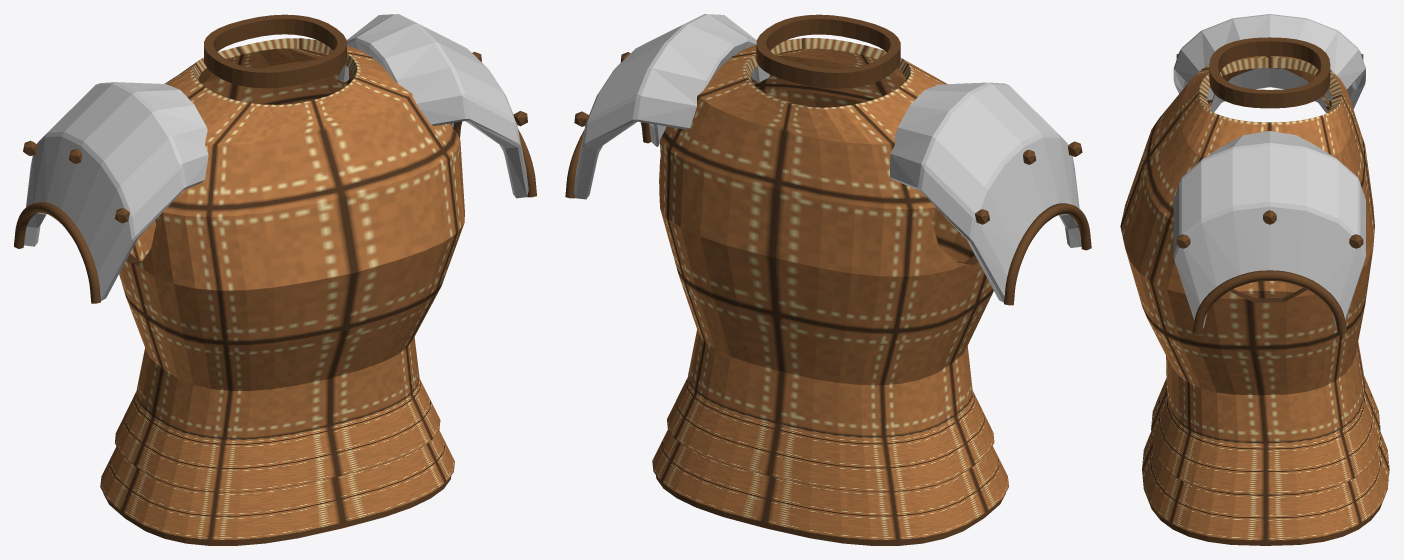
The model's file is leather_armor.obj.
3 views of the same model, side by side, from view 1: azimuth 30°, elevation 25°; view 2: azimuth 150°, elevation 25°; view 3: azimuth 270°, elevation 25° (orthographic). The views are drawn at different scales.
Visible parts, largest first — view 1: A_Torso.001_leather_armor_body, K_FoldedShoulder.001_leather_armor_shoulder_shell, D_Skirt0.001_leather_armor_body, D_Skirt1.001_leather_armor_body, B_NeckTrim.001_leather_armor_trim, K_BoundEdge.001_leather_armor_trim, B_HemTrim.001_leather_armor_trim; view 2: A_Torso.001_leather_armor_body, K_FoldedShoulder.001_leather_armor_shoulder_shell, D_Skirt0.001_leather_armor_body, D_Skirt1.001_leather_armor_body, B_NeckTrim.001_leather_armor_trim, K_BoundEdge.001_leather_armor_trim, B_HemTrim.001_leather_armor_trim; view 3: A_Torso.001_leather_armor_body, K_FoldedShoulder.001_leather_armor_shoulder_shell, D_Skirt0.001_leather_armor_body, D_Skirt1.001_leather_armor_body, B_NeckTrim.001_leather_armor_trim, K_BoundEdge.001_leather_armor_trim, B_HemTrim.001_leather_armor_trim.
Boxes of the visible parts, x1,y1,x2,y2 form: A_Torso.001_leather_armor_body: (119, 38, 464, 439); K_FoldedShoulder.001_leather_armor_shoulder_shell: (24, 14, 528, 300); D_Skirt0.001_leather_armor_body: (115, 378, 440, 492); D_Skirt1.001_leather_armor_body: (100, 430, 454, 539); B_NeckTrim.001_leather_armor_trim: (204, 14, 346, 88); K_BoundEdge.001_leather_armor_trim: (14, 121, 536, 303); B_HemTrim.001_leather_armor_trim: (103, 476, 451, 545); A_Torso.001_leather_armor_body: (659, 38, 993, 437); K_FoldedShoulder.001_leather_armor_shoulder_shell: (573, 14, 1081, 302); D_Skirt0.001_leather_armor_body: (667, 376, 994, 491); D_Skirt1.001_leather_armor_body: (652, 430, 1008, 539); B_NeckTrim.001_leather_armor_trim: (756, 14, 900, 88); K_BoundEdge.001_leather_armor_trim: (565, 122, 1091, 305); B_HemTrim.001_leather_armor_trim: (656, 475, 1005, 545); A_Torso.001_leather_armor_body: (1120, 56, 1374, 443); K_FoldedShoulder.001_leather_armor_shoulder_shell: (1173, 14, 1365, 328); D_Skirt0.001_leather_armor_body: (1151, 375, 1380, 494); D_Skirt1.001_leather_armor_body: (1142, 432, 1389, 540); B_NeckTrim.001_leather_armor_trim: (1209, 37, 1330, 108); K_BoundEdge.001_leather_armor_trim: (1192, 270, 1346, 334); B_HemTrim.001_leather_armor_trim: (1149, 503, 1381, 545).
Bounding box in the file's own units: 2.4 × 2.24 × 1.33.
